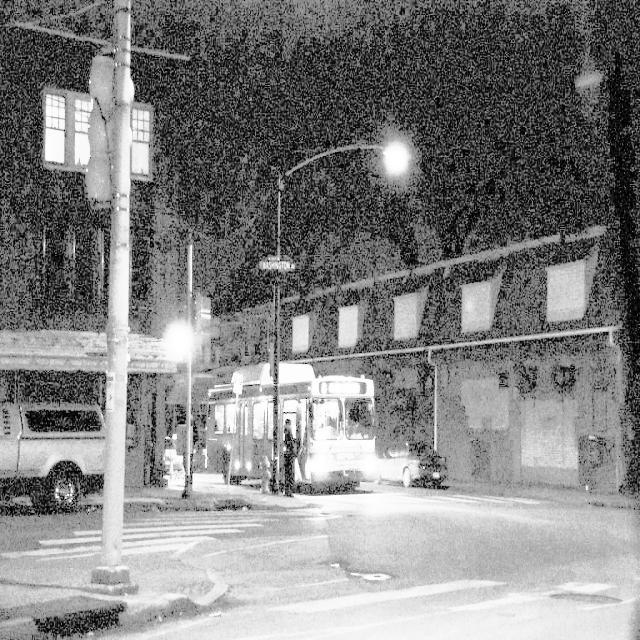Bus: (215, 358, 395, 480)
Car: (0, 391, 96, 557), (378, 423, 456, 501)
